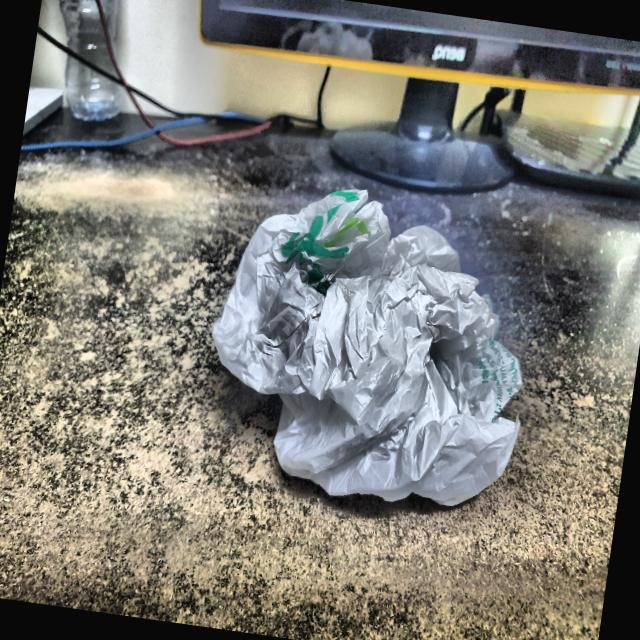plastic bag: (180, 160, 562, 538)
